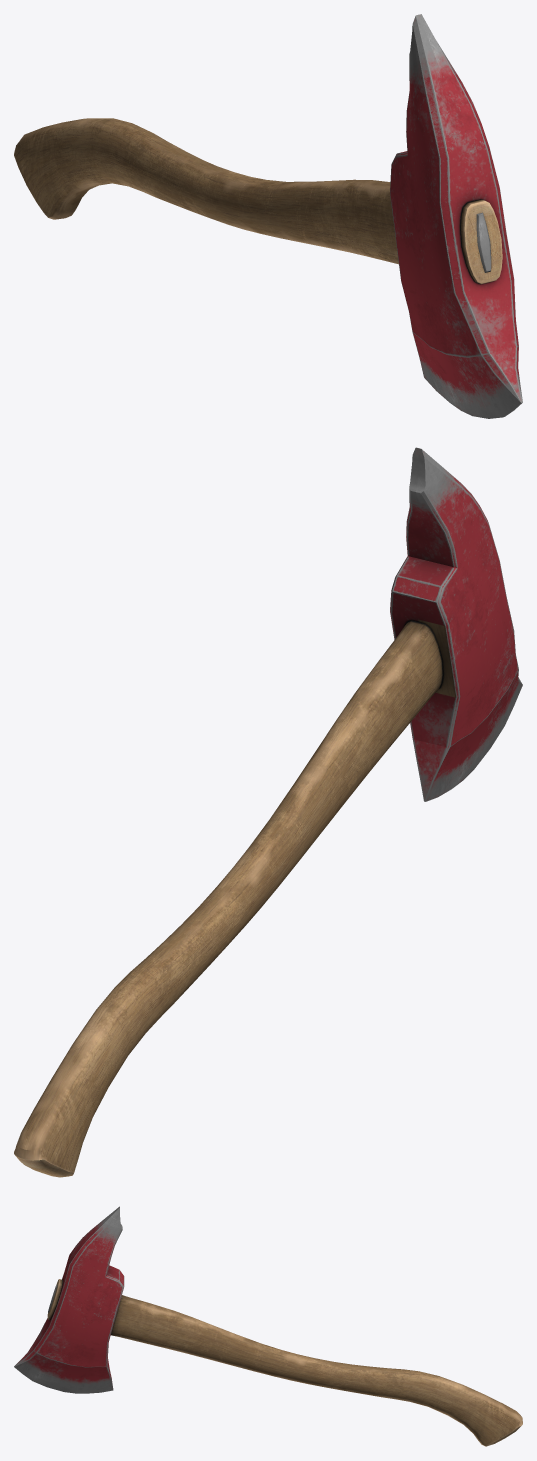
File: fire_axe.glb
The picture shows the model from 3 angles, top to bottom: view 1: azimuth 30°, elevation 25°; view 2: azimuth 150°, elevation 25°; view 3: azimuth 270°, elevation 25°; orthographic projection. The views are drawn at different scales.
Parts seen in each view (by area): view 1: Cube.137; view 2: Cube.137; view 3: Cube.137.
Boxes of the visible parts, x1,y1,x2,y2 form: Cube.137: (14,14,522,418); Cube.137: (14,447,522,1177); Cube.137: (14,1206,522,1446).
Bounding box in the file's own units: 0.0555 × 0.3938 × 0.7623.
Materials: 1 (1 with a texture image).
